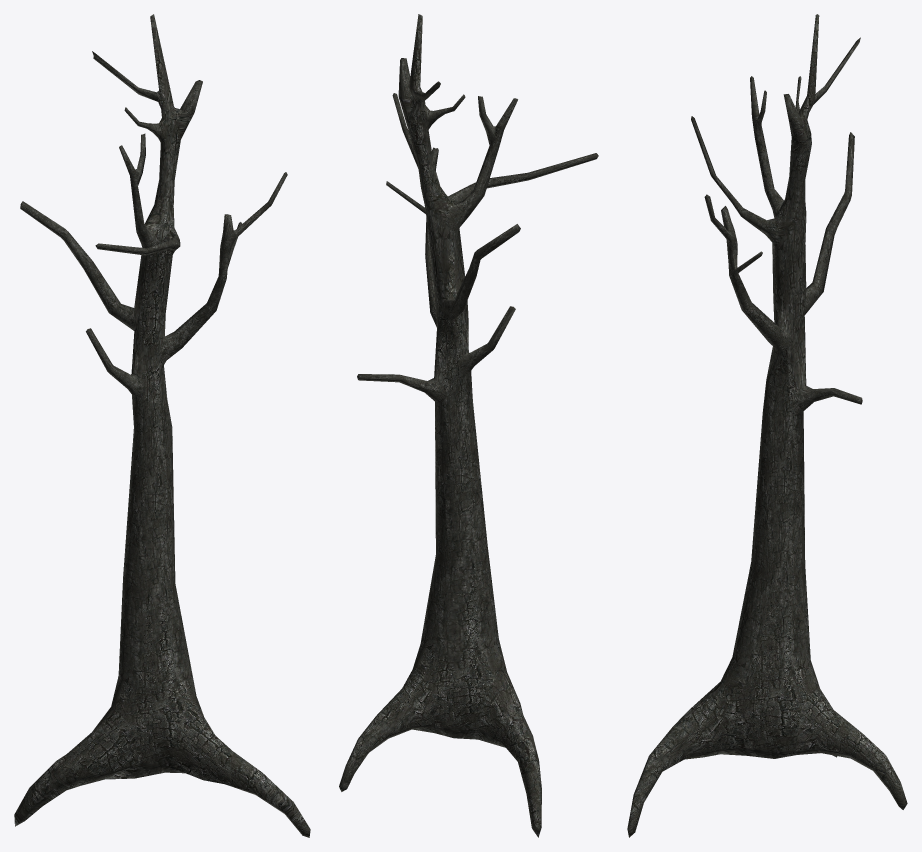
File: DeadTree02.FBX
The picture shows the model from 3 angles, left to right: view 1: azimuth 30°, elevation 25°; view 2: azimuth 150°, elevation 25°; view 3: azimuth 270°, elevation 25°; orthographic projection. The views are drawn at different scales.
Parts seen in each view (by area): view 1: TreeDead02:0; view 2: TreeDead02:0; view 3: TreeDead02:0.
Boxes of the visible parts, x1,y1,x2,y2 form: TreeDead02:0: (14,14,310,837); TreeDead02:0: (339,14,598,837); TreeDead02:0: (627,14,907,837).
Bounding box in the file's own units: 1.53 × 5.46 × 1.72.
